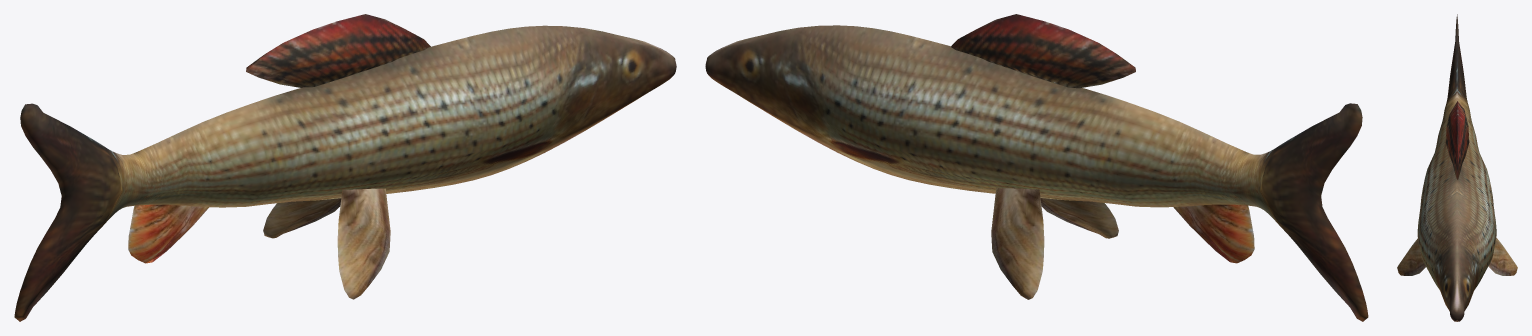
The model's file is Fish 4.fbx.
3 renders of one model, left to right at view 1: azimuth 30°, elevation 25°; view 2: azimuth 150°, elevation 25°; view 3: azimuth 270°, elevation 25°, orthographic. The views are drawn at different scales.
Visible parts, largest first — view 1: Fish_4; view 2: Fish_4; view 3: Fish_4.
Part boxes in pixels (x1,y1,x2,y2): Fish_4: (14,14,676,321); Fish_4: (705,14,1368,321); Fish_4: (1397,14,1517,321).
Size of the model in its own units: 12.24 by 4.27 by 2.79.
1 material, 1 textured.
